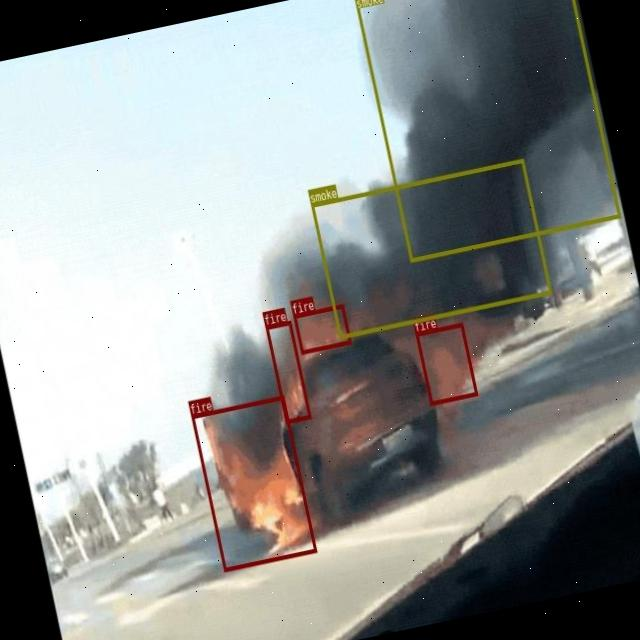fire: (191, 394, 316, 570), (415, 323, 477, 405), (265, 320, 311, 422), (294, 304, 352, 354)
smoke: (353, 0, 620, 261), (310, 158, 552, 338)
